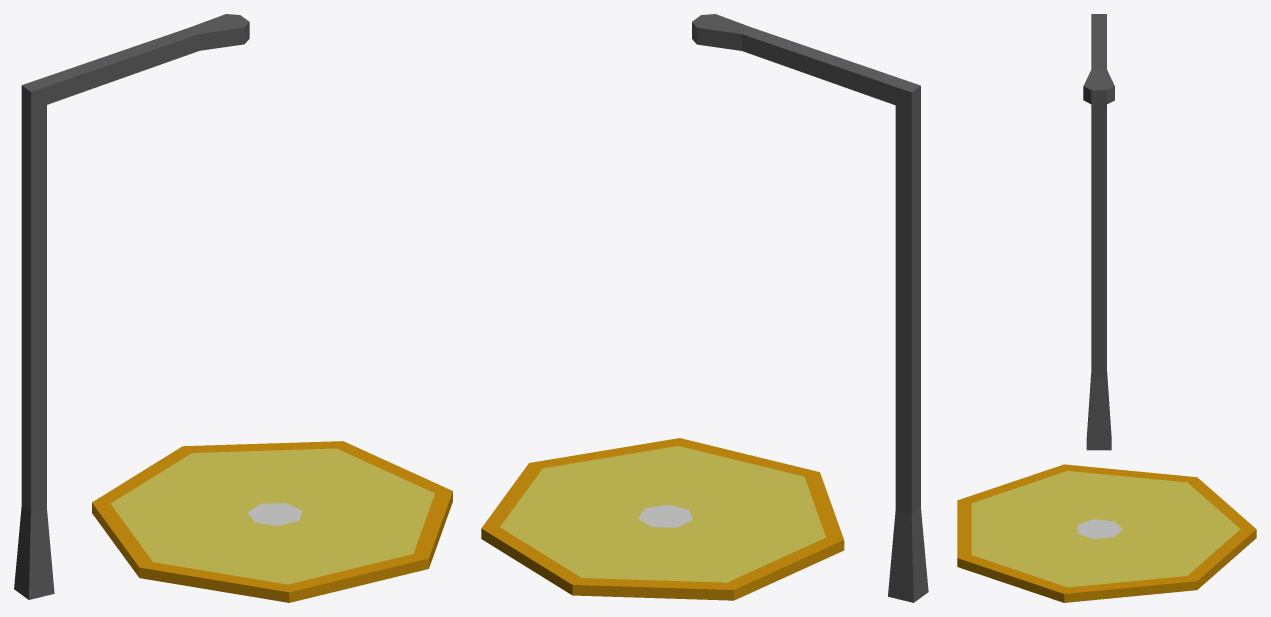
File: pekka_ja_paetkae_light.obj
3 views of the same model, side by side, from view 1: azimuth 30°, elevation 25°; view 2: azimuth 150°, elevation 25°; view 3: azimuth 270°, elevation 25° (orthographic). The views are drawn at different scales.
Parts seen in each view (by area): view 1: Circle, Cube; view 2: Circle, Cube; view 3: Circle, Cube.
Part boxes in pixels (x1,y1,x2,y2): Circle: (92,441,452,602); Cube: (14,14,249,599); Circle: (481,438,844,600); Cube: (692,14,928,602); Circle: (957,464,1256,602); Cube: (1083,14,1114,450).
Bounding box in the file's own units: 2.55 × 3.1 × 1.9.
